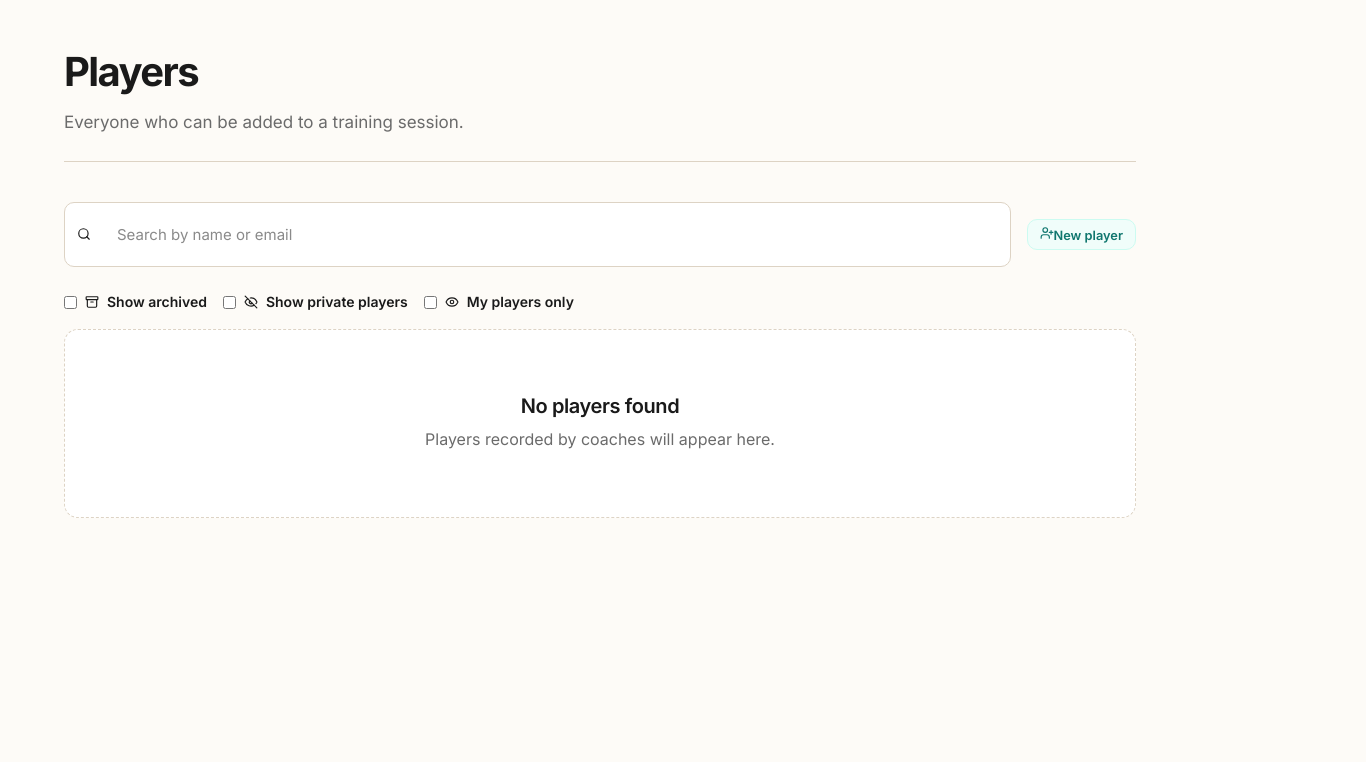
it: Players › does not expose Person lookup or contact fields when recording a profile
The image size is (1366, 762).
Click the button "New player". click: (1081, 234)
box: x1=1026 y1=219 x2=1136 y2=250
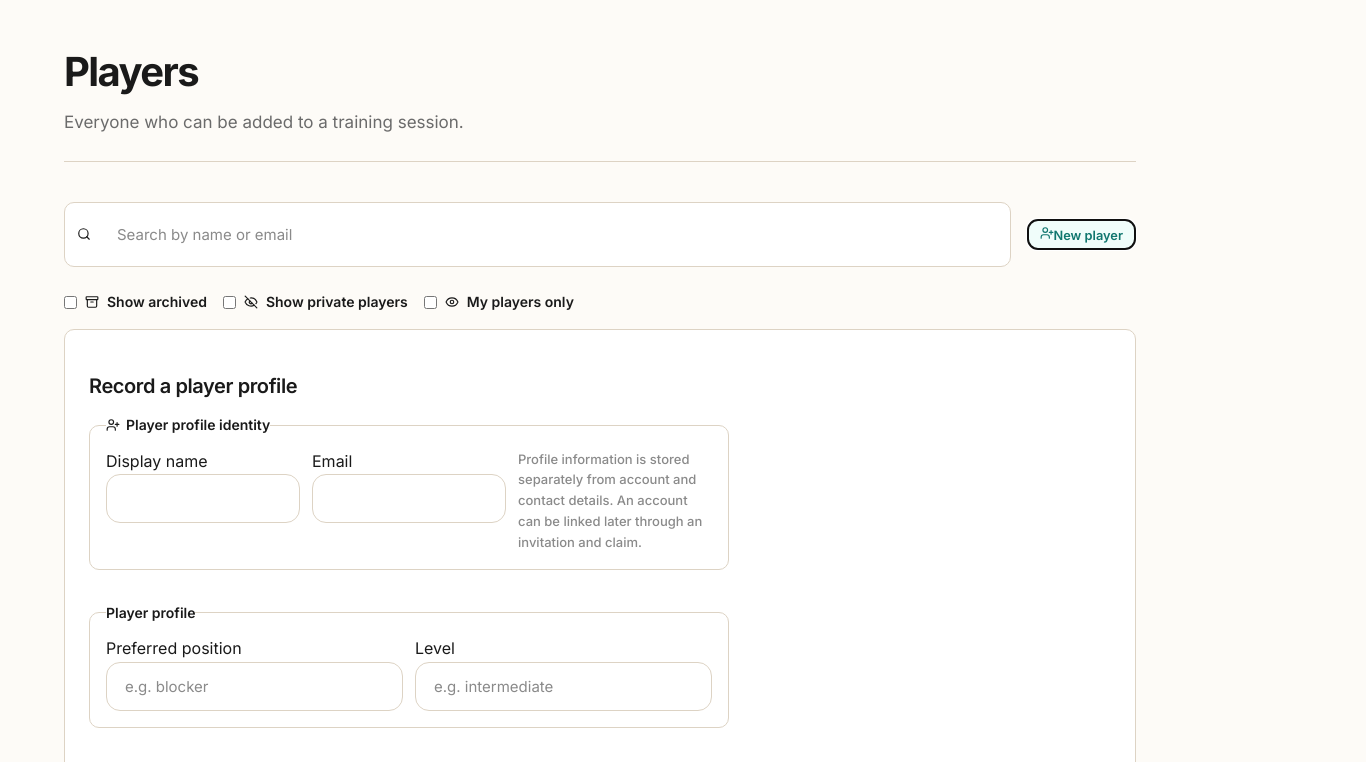
Expected: the field labelled "Display name" is shown, x1=106 y1=474 x2=300 y2=523
